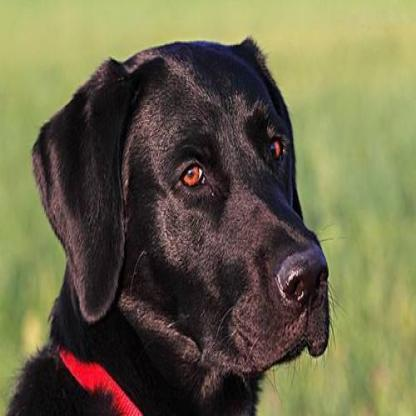Labarador Retriever: (0, 40, 334, 416)
